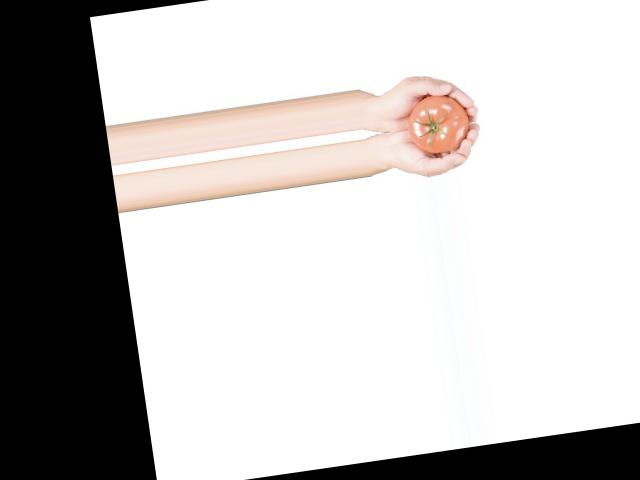tomato: (405, 90, 471, 156)
